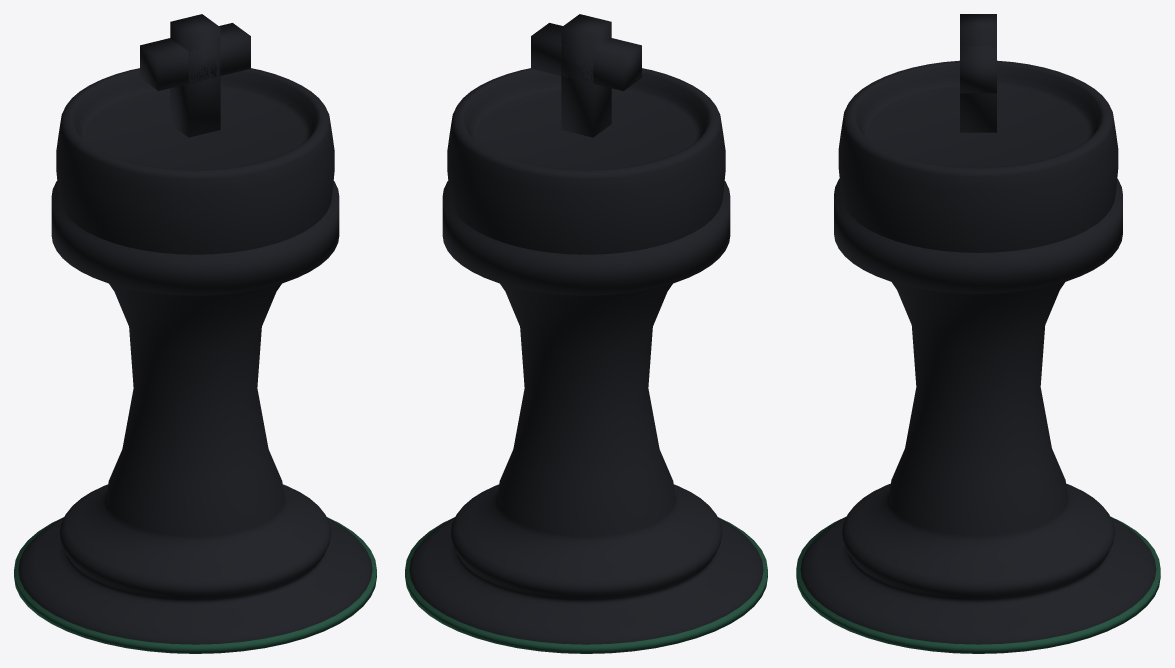
The model's file is chess-king-black.glb.
The picture shows the model from 3 angles, left to right: view 1: azimuth 30°, elevation 25°; view 2: azimuth 150°, elevation 25°; view 3: azimuth 270°, elevation 25°; orthographic projection.
Visible parts, largest first — view 1: ChessKing; view 2: ChessKing; view 3: ChessKing.
Part boxes in pixels (x1,y1,x2,y2): ChessKing: (14,14,376,653); ChessKing: (405,14,767,653); ChessKing: (796,14,1160,653).
Size of the model in its own units: 0.5951 by 1 by 0.5951.
